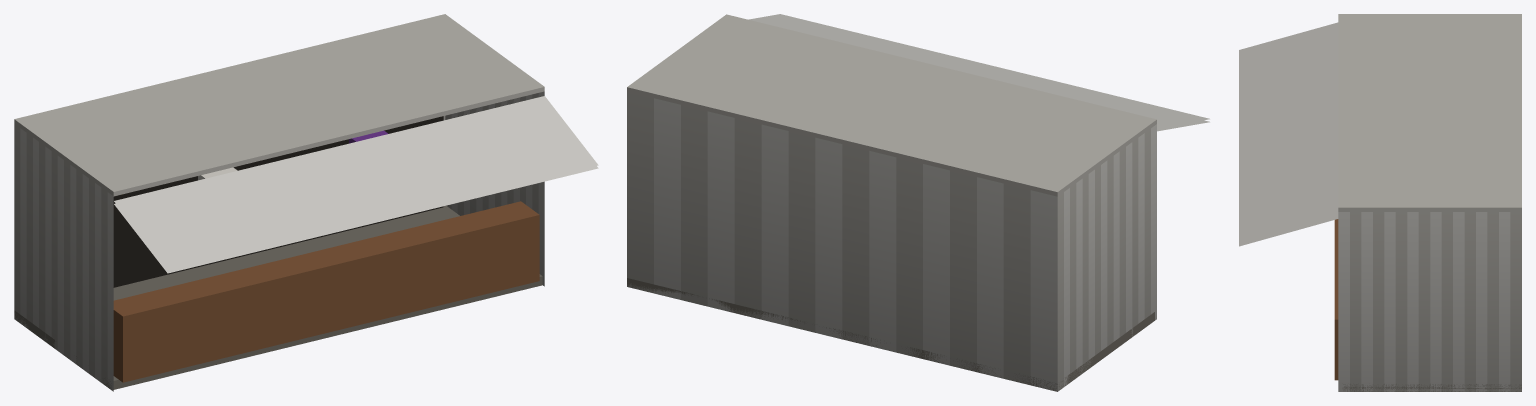
Rendered from ub_container.glb.
3 views of the same model, side by side, from view 1: azimuth 30°, elevation 25°; view 2: azimuth 150°, elevation 25°; view 3: azimuth 270°, elevation 25° (orthographic). The views are drawn at different scales.
Visible parts, largest first — view 1: ub_container; view 2: ub_container; view 3: ub_container.
Boxes of the visible parts, <box> form: ub_container: <box>14,14,598,391</box>; ub_container: <box>627,14,1209,391</box>; ub_container: <box>1239,14,1521,391</box>.
Size of the model in its own units: 6 by 2.66 by 3.7.
